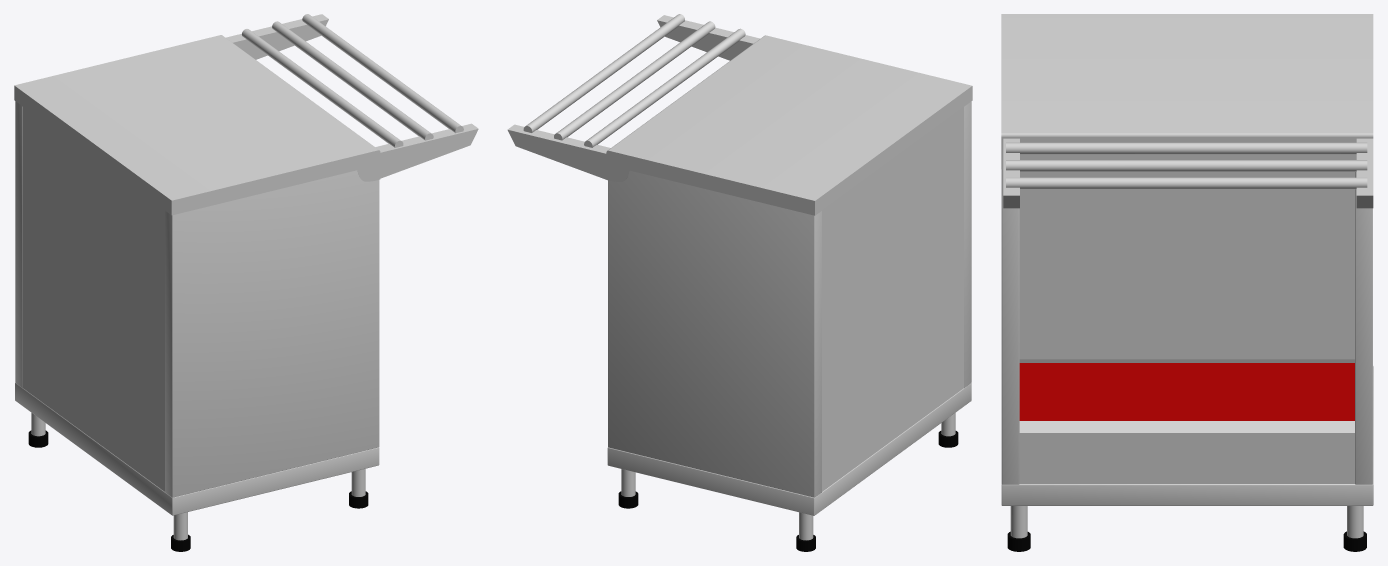
The model's file is KitchenRazdacha01_01a.FBX.
The picture shows the model from 3 angles, left to right: view 1: azimuth 30°, elevation 25°; view 2: azimuth 150°, elevation 25°; view 3: azimuth 270°, elevation 25°; orthographic projection. The views are drawn at different scales.
Visible parts, largest first — view 1: Kitchen01a; view 2: Kitchen01a; view 3: Kitchen01a.
Part boxes in pixels (<box>): Kitchen01a: <box>14,14,478,551</box>; Kitchen01a: <box>507,14,972,551</box>; Kitchen01a: <box>1001,14,1373,551</box>.
Size of the model in its own units: 36.2 by 40.32 by 32.08.
